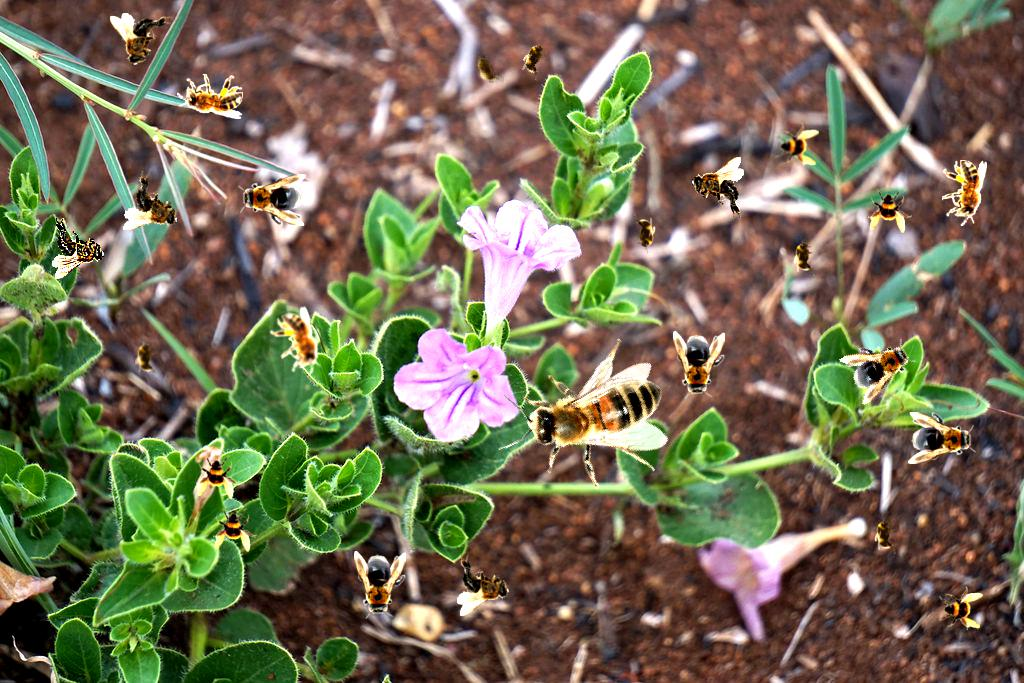Bee: (473, 303, 706, 535), (837, 326, 923, 406), (264, 303, 334, 384), (119, 169, 190, 245), (354, 551, 406, 619), (673, 331, 725, 399), (908, 412, 976, 464), (238, 174, 306, 226), (52, 217, 105, 279), (110, 13, 172, 66), (691, 157, 744, 219), (457, 554, 510, 616), (942, 160, 987, 226), (177, 74, 243, 119), (196, 455, 240, 499), (775, 123, 819, 167), (868, 189, 912, 233), (213, 508, 257, 552), (939, 586, 983, 630), (468, 46, 506, 92), (516, 35, 554, 81), (874, 514, 896, 554), (634, 214, 656, 254), (793, 236, 815, 276), (135, 337, 157, 377)
